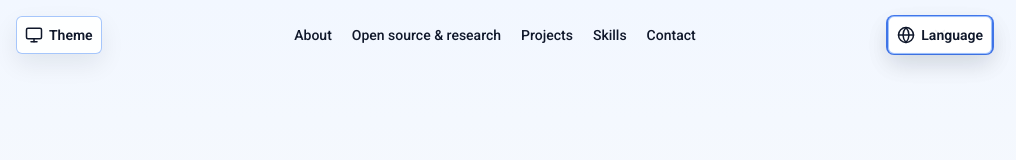
Test: Header › closes after selecting a section
Earlier steps of the test are not shown.
Click the link "About" at (313, 35), box [294,25,332,45]
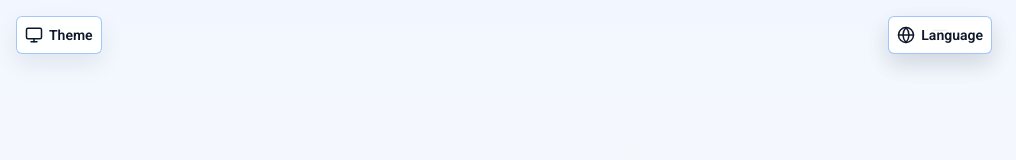
Result: the link "About" is gone
